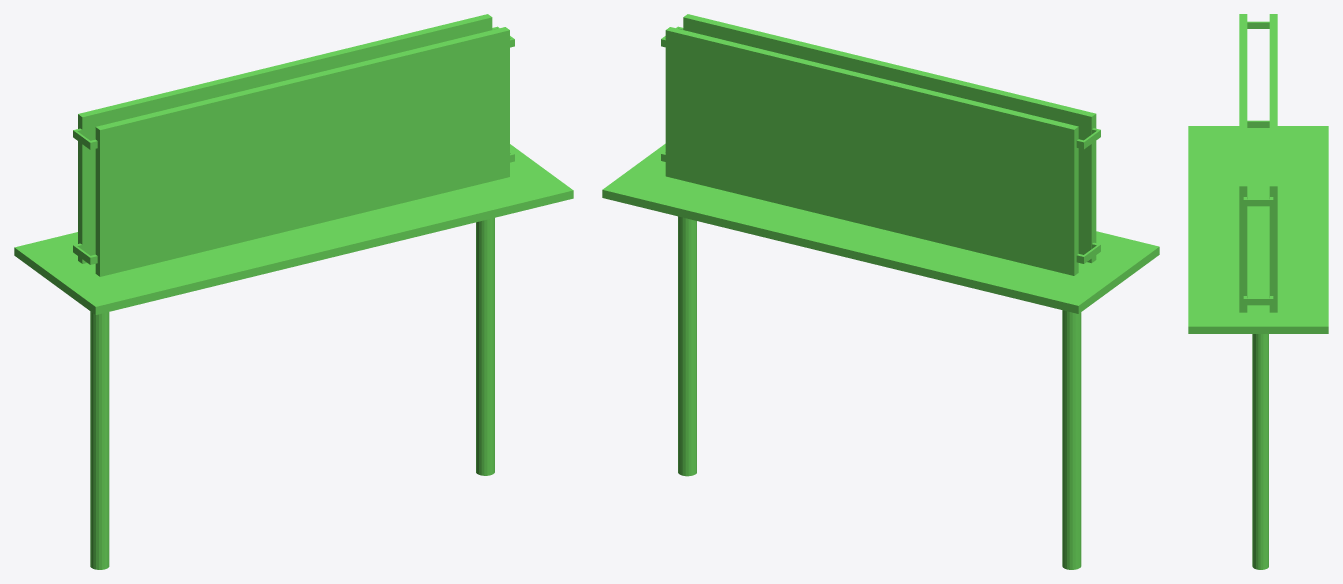
The model's file is outdoor.fbx.
3 views of the same model, side by side, from view 1: azimuth 30°, elevation 25°; view 2: azimuth 150°, elevation 25°; view 3: azimuth 270°, elevation 25° (orthographic). The views are drawn at different scales.
Parts seen in each view (by area): view 1: Cylinder.009; view 2: Cylinder.009; view 3: Cylinder.009.
Boxes of the visible parts, left/top/right/bottom form: Cylinder.009: left=14, top=14, right=573, bottom=569; Cylinder.009: left=602, top=14, right=1159, bottom=569; Cylinder.009: left=1188, top=14, right=1328, bottom=569.
Bounding box in the file's own units: 1232 × 1103 × 363.
